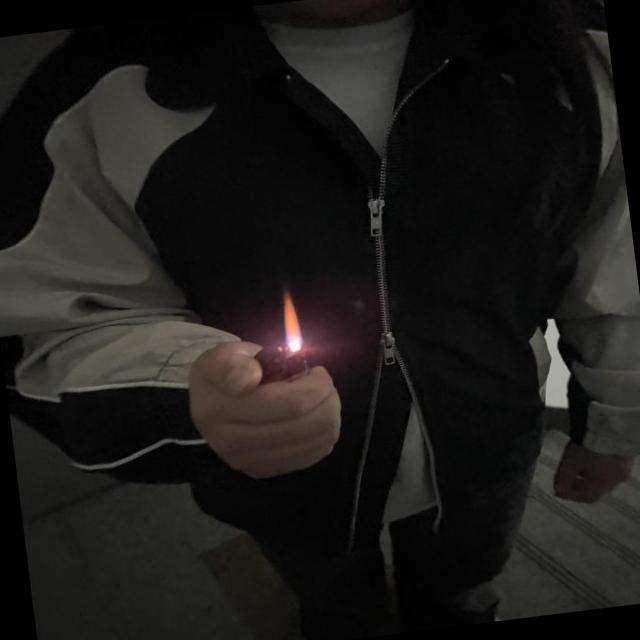Fire: (276, 285, 308, 354)
